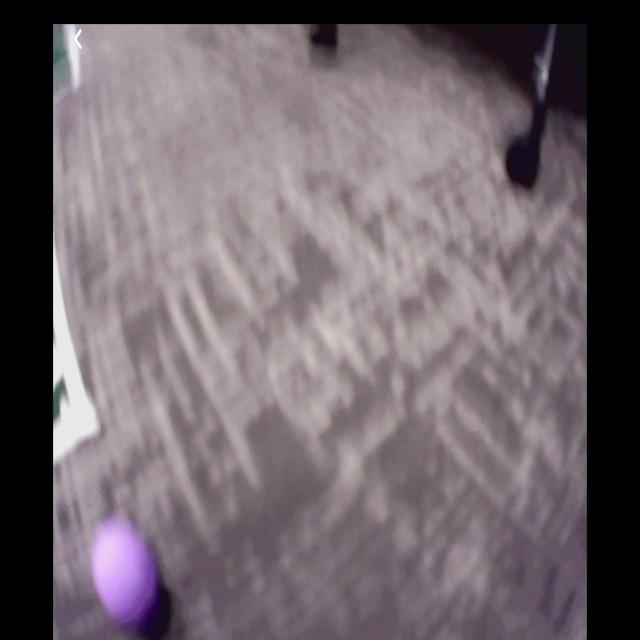ball: (93, 520, 160, 629)
